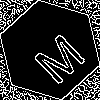M: (25, 25, 88, 87)
